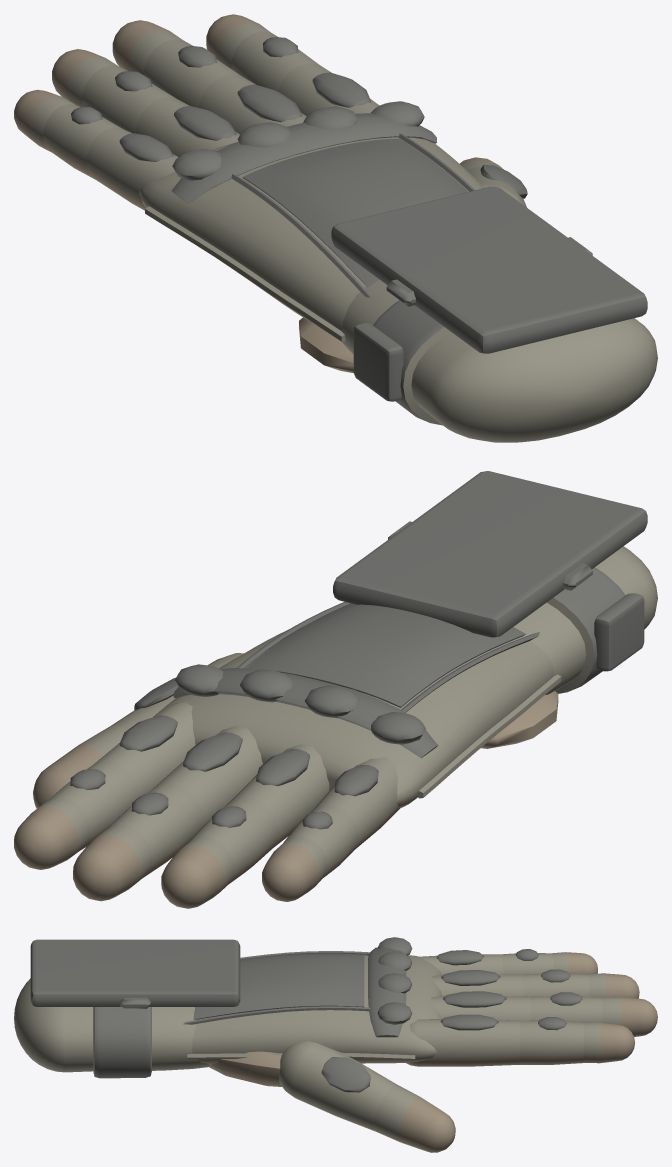
The model's file is glove_left.glb.
The picture shows the model from 3 angles, top to bottom: view 1: azimuth 30°, elevation 25°; view 2: azimuth 150°, elevation 25°; view 3: azimuth 270°, elevation 25°; orthographic projection. The views are drawn at different scales.
Parts seen in each view (by area): view 1: palm, wrist_housing, finger_3_0, finger_2_0, finger_1_0, finger_1_1, finger_2_1, finger_0_0, finger_0_1, finger_3_1, finger_1_2, finger_2_2 (+3 smaller); view 2: palm, wrist_housing, finger_1_0, finger_2_0, finger_0_0, finger_1_2, finger_1_1, finger_3_0, finger_0_2, finger_2_2, finger_2_1, finger_0_1 (+4 smaller); view 3: palm, wrist_housing, finger_4_0, finger_0_0, finger_4_1, finger_0_1, finger_1_0, finger_2_0, finger_1_1, finger_0_2, finger_1_2, finger_2_1 (+4 smaller).
Boxes of the visible parts, x1=… form: palm: x1=139, y1=101, x2=657, y2=442; wrist_housing: x1=331, y1=186, x2=647, y2=353; finger_3_0: x1=86, y1=127, x2=178, y2=210; finger_2_0: x1=135, y1=97, x2=239, y2=156; finger_1_0: x1=198, y1=74, x2=306, y2=133; finger_1_1: x1=144, y1=39, x2=240, y2=107; finger_2_1: x1=82, y1=65, x2=175, y2=133; finger_0_0: x1=277, y1=63, x2=379, y2=116; finger_0_1: x1=231, y1=31, x2=319, y2=91; finger_3_1: x1=43, y1=104, x2=121, y2=179; finger_1_2: x1=112, y1=20, x2=183, y2=75; finger_2_2: x1=52, y1=49, x2=118, y2=107; palm: x1=153, y1=546, x2=657, y2=808; wrist_housing: x1=333, y1=471, x2=647, y2=637; finger_1_0: x1=152, y1=725, x2=262, y2=825; finger_2_0: x1=227, y1=744, x2=329, y2=846; finger_0_0: x1=95, y1=701, x2=195, y2=796; finger_1_2: x1=73, y1=824, x2=152, y2=901; finger_1_1: x1=105, y1=783, x2=203, y2=877; finger_3_0: x1=311, y1=757, x2=400, y2=849; finger_0_2: x1=14, y1=797, x2=89, y2=869; finger_2_2: x1=161, y1=836, x2=234, y2=908; finger_2_1: x1=186, y1=797, x2=278, y2=884; finger_0_1: x1=48, y1=761, x2=138, y2=850; palm: x1=14, y1=937, x2=442, y2=1086; wrist_housing: x1=30, y1=939, x2=240, y2=1008; finger_4_0: x1=279, y1=1041, x2=396, y2=1131; finger_0_0: x1=406, y1=1014, x2=519, y2=1066; finger_4_1: x1=373, y1=1084, x2=455, y2=1152; finger_0_1: x1=520, y1=1017, x2=583, y2=1064; finger_1_0: x1=430, y1=991, x2=530, y2=1020; finger_2_0: x1=432, y1=970, x2=523, y2=996; finger_1_1: x1=530, y1=992, x2=602, y2=1022; finger_0_2: x1=584, y1=1022, x2=634, y2=1063; finger_1_2: x1=601, y1=997, x2=657, y2=1036; finger_2_1: x1=522, y1=969, x2=589, y2=996.
Size of the model in its own units: 0.1164 by 0.0504 by 0.2519.
